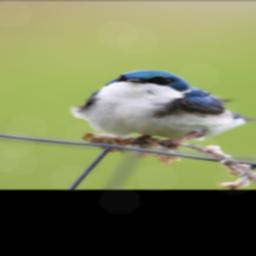Swallow: (68, 69, 256, 150)
